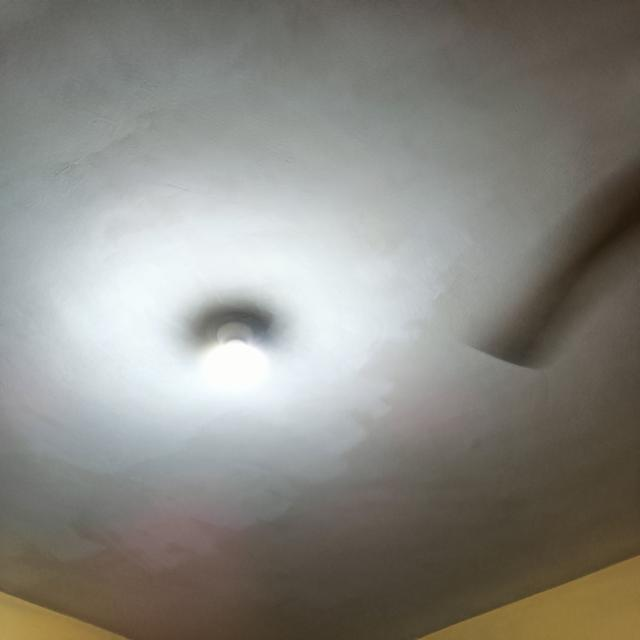bulb_on: (195, 315, 276, 404)
